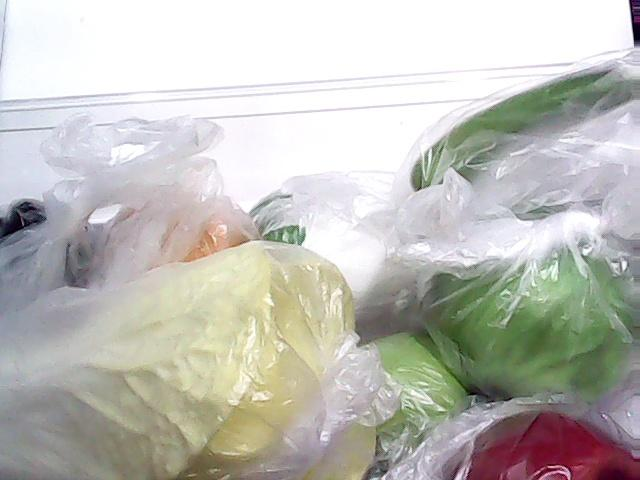apple: (426, 399, 640, 480), (362, 329, 462, 447)
cabbage: (428, 195, 640, 419)
grape: (3, 182, 108, 286)
lemon: (86, 174, 274, 294)
napa cabbage: (0, 234, 366, 480)
pepper: (408, 48, 640, 207)
radish: (248, 190, 420, 322)
